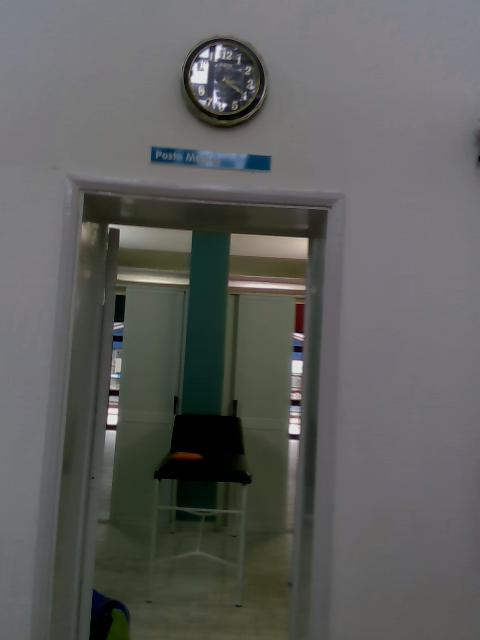open_door: (33, 171, 347, 639)
